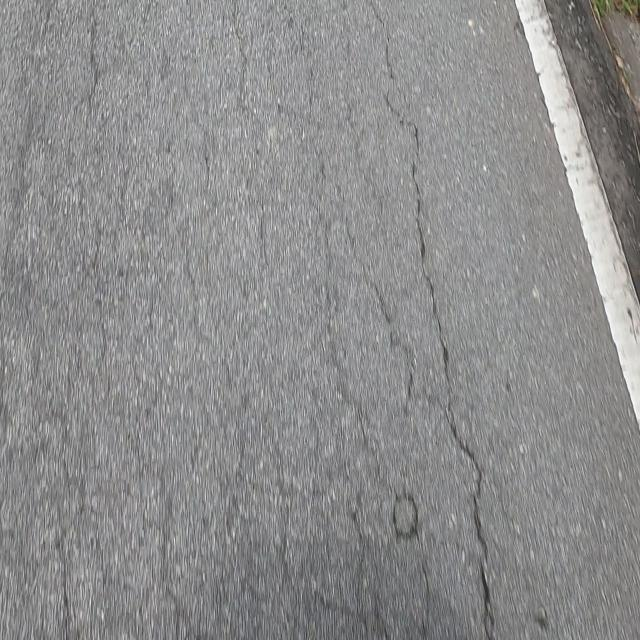Retak-Buaya: (0, 5, 430, 638)
Retak-Memanjang: (384, 104, 491, 636)
